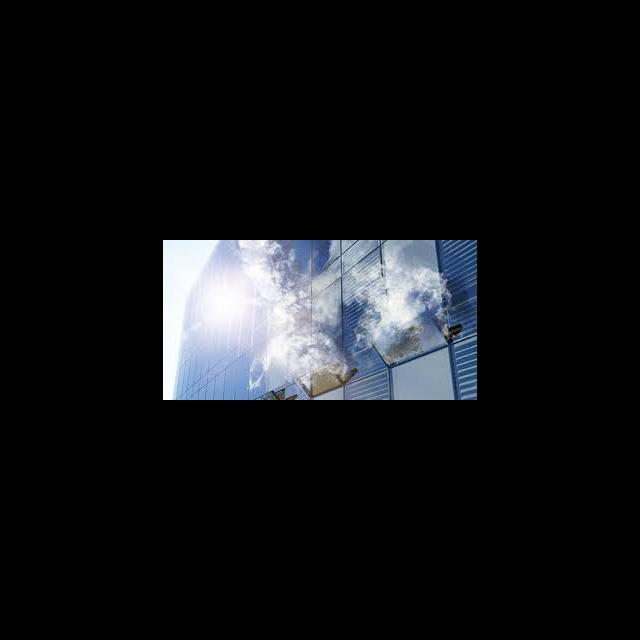Smoke: (236, 241, 352, 392), (360, 255, 450, 346)
